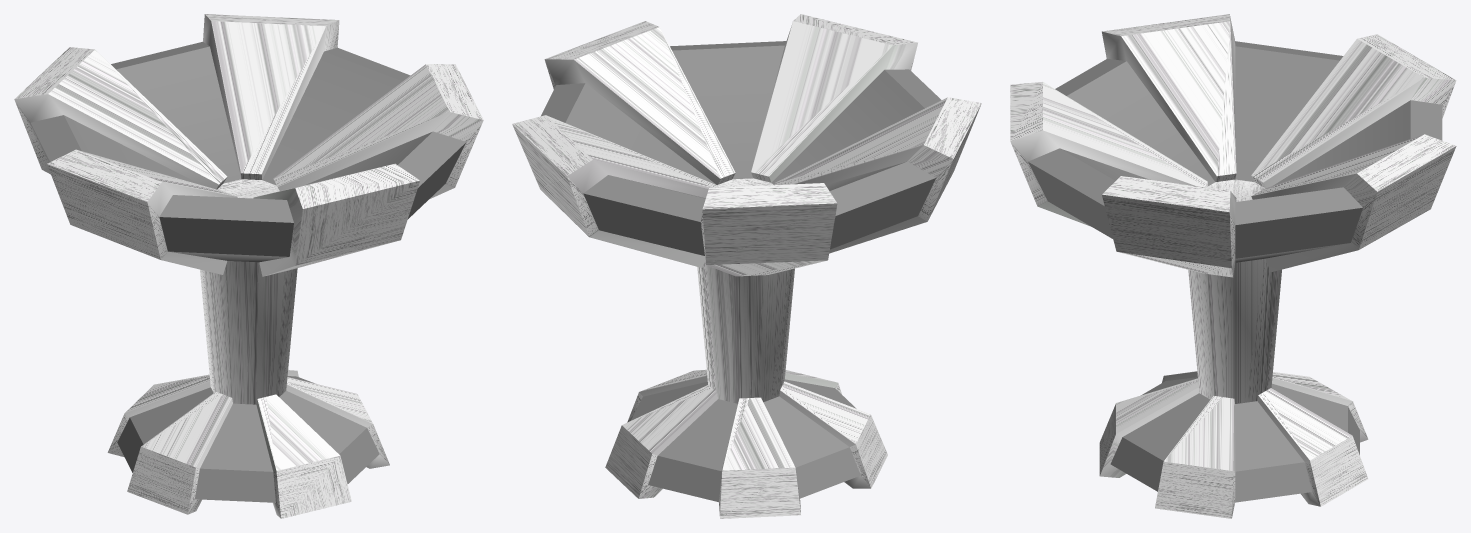
The model's file is dizuo1.FBX.
3 views of the same model, side by side, from view 1: azimuth 30°, elevation 25°; view 2: azimuth 150°, elevation 25°; view 3: azimuth 270°, elevation 25° (orthographic).
Parts seen in each view (by area): view 1: dizuo1; view 2: dizuo1; view 3: dizuo1.
Part boxes in pixels (x1=…): dizuo1: x1=14, y1=14, x2=483, y2=518; dizuo1: x1=512, y1=14, x2=981, y2=518; dizuo1: x1=1010, y1=14, x2=1456, y2=518.
Bounding box in the file's own units: 167 × 140 × 159.
